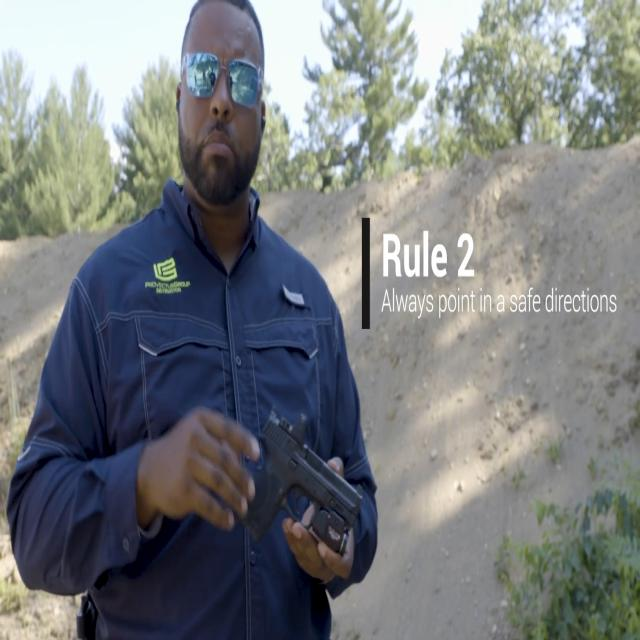Gun_Holder: (232, 397, 360, 570)
Person: (0, 0, 373, 640)
